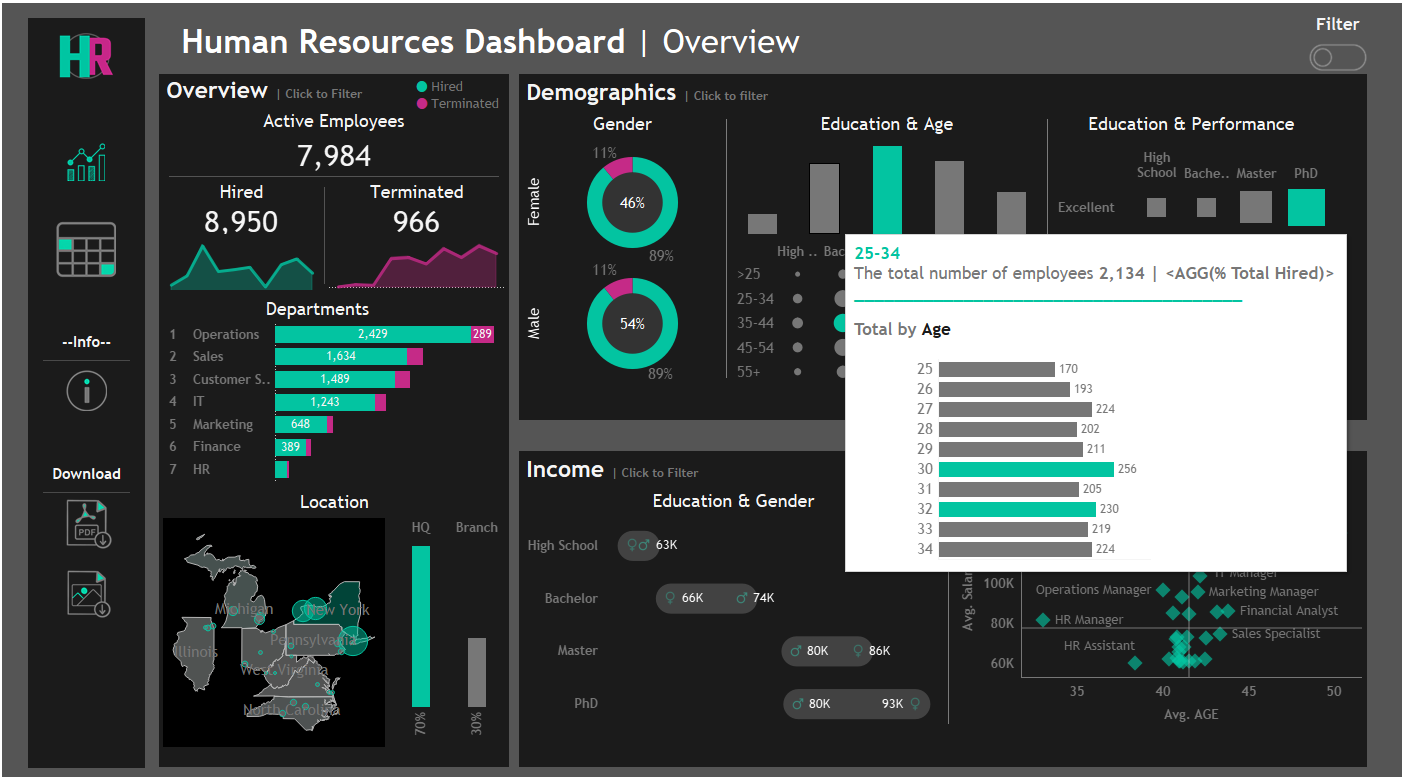

The dashboard page shown, as its layout file describes it:
{"tool":"tableau","page":{"name":"HR | Summary (3)","canvas":[1400,800],"ordinal":3},"visuals":[{"type":"blank","box":[7,7,130,393]},{"type":"text","box":[143,7,676,64]},{"type":"blank","box":[819,7,536,64]},{"type":"text","box":[149,77,352,32]},{"type":"text","box":[509,79,838,35]},{"type":"text","box":[149,109,352,29]},{"type":"text","box":[511,116,207,29]},{"type":"blank","box":[718,116,25,246]},{"type":"text","box":[743,116,261,29]},{"type":"blank","box":[1004,116,25,246]},{"type":"text","box":[1029,116,316,29]},{"type":"worksheet","title":"Active","mark":"Text","box":[149,138,352,41]},{"type":"worksheet","title":"Gender","mark":"Pie","rows":["Gender"],"cols":["Calculation_1937110846429085710","Calculation_1937110846429085710"],"box":[511,145,207,217]},{"type":"worksheet","title":"Age Group","mark":"Bar","rows":["Calculation_1937110846402056192"],"cols":["Calculation_1937110846440509456"],"box":[743,145,261,100]},{"type":"worksheet","title":"Education VS Performance","mark":"Square","rows":["Performance Rating"],"cols":["Education Level"],"box":[1029,145,316,217]},{"type":"blank","box":[149,179,352,25]},{"type":"text","box":[151,206,165,29]},{"type":"blank","box":[316,206,17,113]},{"type":"text","box":[333,206,166,29]},{"type":"worksheet","title":"HIRED","mark":"Text","box":[151,235,165,32]},{"type":"worksheet","title":"Terminated","mark":"Text","box":[333,235,166,32]},{"type":"worksheet","title":"Age VS Education","mark":"Pie","rows":["Calculation_1937110846440509456"],"cols":["Education Level"],"box":[743,245,152.5,117]},{"type":"worksheet","title":"Education Level","mark":"Bar","rows":["Calculation_1937110846402056192"],"cols":["Education Level"],"box":[895.5,245,108.5,117]},{"type":"worksheet","title":"Hired by Years","mark":"Line","rows":["Calculation_1937110846402056192","Calculation_1937110846402056192"],"cols":["Hiredate"],"box":[151,267,165,52]},{"type":"worksheet","title":"Terminated by Years","mark":"Line","rows":["Calculation_1937110846402326529","Calculation_1937110846402326529"],"cols":["Termdate"],"box":[333,267,166,52]},{"type":"blank","box":[149,321,118.7,25]},{"type":"text","box":[267.7,321,114.7,25]},{"type":"blank","box":[382.3,321,118.7,25]},{"type":"worksheet","title":"Departments","mark":"Bar","rows":["Calculation_1937110846415405062","Department"],"cols":["Calculation_1937110846402056192"],"box":[149,346,352,166]},{"type":"blank","box":[7,400,130,393]},{"type":"text","box":[509,415,838,35]},{"type":"text","box":[511,452,410.5,29]},{"type":"blank","box":[921.5,452,25,220]},{"type":"text","box":[946.5,452,398.5,29]},{"type":"worksheet","title":"Education VS Gender Level","mark":"Square","rows":["Education Level"],"cols":["Salary","Salary"],"box":[511,481,410.5,191]},{"type":"worksheet","title":"Age VS Salary","mark":"Shape","rows":["Salary"],"cols":["Calculation_1937110846439919631"],"box":[946.5,481,398.5,191]},{"type":"blank","box":[149,512,120,24]},{"type":"text","box":[269,512,112,24]},{"type":"blank","box":[381,512,120,24]},{"type":"worksheet","title":"MAP STATE","mark":"Automatic","box":[149,536,292,222]},{"type":"worksheet","title":"Location","mark":"Bar","rows":["Calculation_1937110846402056192"],"cols":["Calculation_1937110846422126599","Calculation1"],"box":[441,536,60,222]}]}

Visuals, with their boxes on the page's 1400x800 design canvas (x1, y1, x2, y2). These are canvas units, not pixel positions in the 1407x777 screenshot, which may show the page scaled, cropped or inside an application window:
blank: 7 7 137 400
text: 143 7 819 71
blank: 819 7 1355 71
text: 149 77 501 109
text: 509 79 1347 114
text: 149 109 501 138
text: 511 116 718 145
blank: 718 116 743 362
text: 743 116 1004 145
blank: 1004 116 1029 362
text: 1029 116 1345 145
"Active" worksheet (Text marks): 149 138 501 179
"Gender" worksheet (Pie marks): 511 145 718 362
"Age Group" worksheet (Bar marks): 743 145 1004 245
"Education VS Performance" worksheet (Square marks): 1029 145 1345 362
blank: 149 179 501 204
text: 151 206 316 235
blank: 316 206 333 319
text: 333 206 499 235
"HIRED" worksheet (Text marks): 151 235 316 267
"Terminated" worksheet (Text marks): 333 235 499 267
"Age VS Education" worksheet (Pie marks): 743 245 896 362
"Education Level" worksheet (Bar marks): 896 245 1004 362
"Hired by Years" worksheet (Line marks): 151 267 316 319
"Terminated by Years" worksheet (Line marks): 333 267 499 319
blank: 149 321 268 346
text: 268 321 382 346
blank: 382 321 501 346
"Departments" worksheet (Bar marks): 149 346 501 512
blank: 7 400 137 793
text: 509 415 1347 450
text: 511 452 922 481
blank: 922 452 946 672
text: 946 452 1345 481
"Education VS Gender Level" worksheet (Square marks): 511 481 922 672
"Age VS Salary" worksheet (Shape marks): 946 481 1345 672
blank: 149 512 269 536
text: 269 512 381 536
blank: 381 512 501 536
"MAP STATE" worksheet: 149 536 441 758
"Location" worksheet (Bar marks): 441 536 501 758
